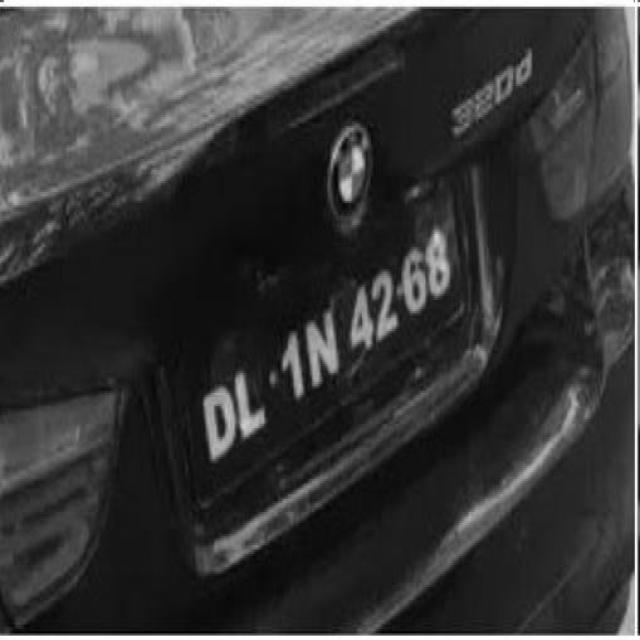license-plate: (171, 176, 478, 516)
